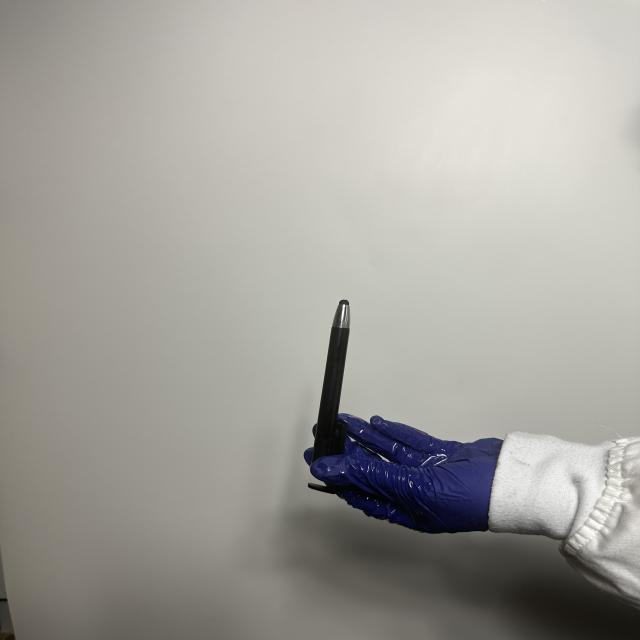gloves_contaminated: (304, 414, 502, 533)
